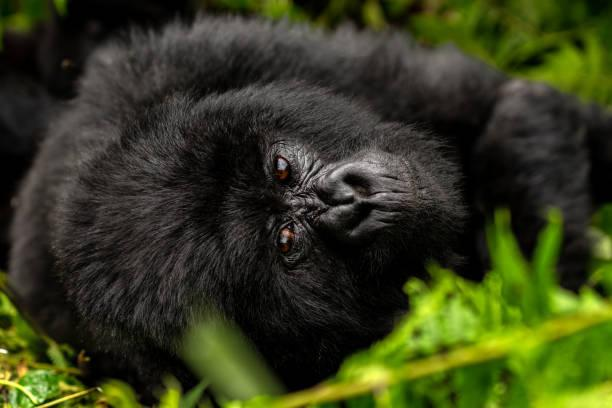goriile_montagne: (29, 5, 564, 345)
